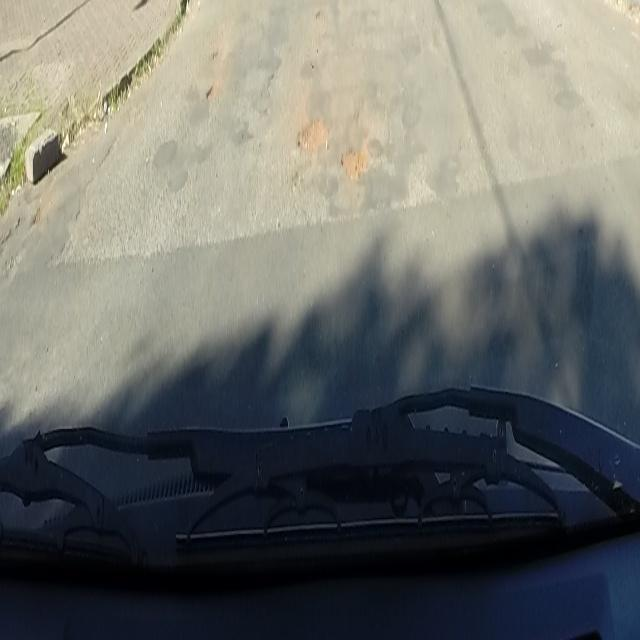pothole: (296, 114, 330, 160), (340, 144, 370, 186), (206, 79, 218, 96)
